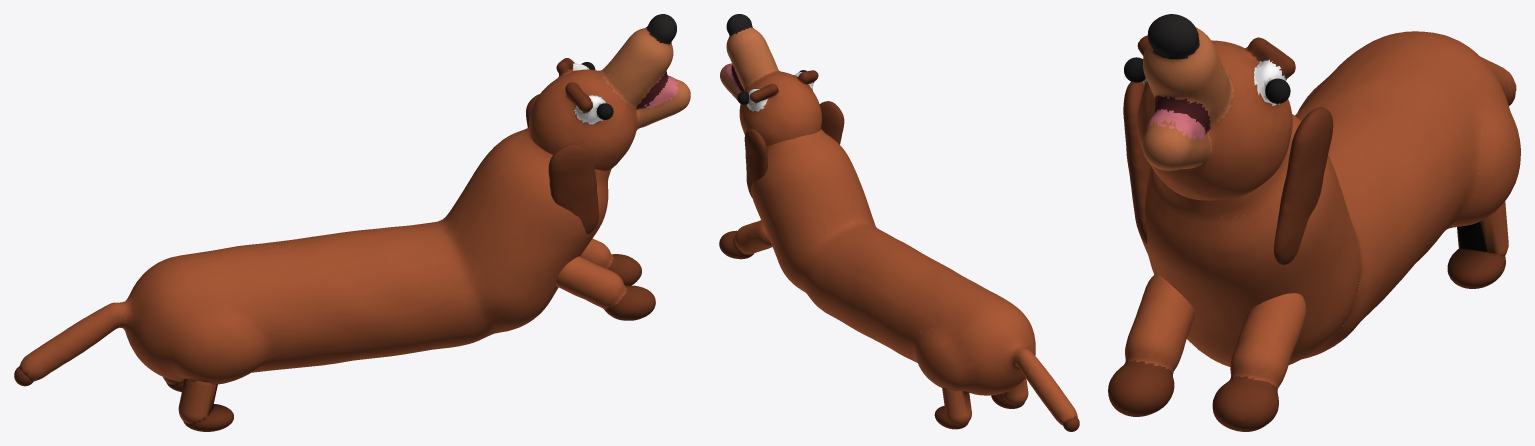
The model's file is jag-ar-orolig.glb.
3 renders of one model, left to right at view 1: azimuth 30°, elevation 25°; view 2: azimuth 150°, elevation 25°; view 3: azimuth 270°, elevation 25°, orthographic. The views are drawn at different scales.
Visible parts, largest first — view 1: salsicha__r0, cabeca__r0, patas__r0, orelhas__r0, salsicha__r4, salsicha__r5; view 2: salsicha__r0, cabeca__r0, orelhas__r0, patas__r0, salsicha__r2, salsicha__r4; view 3: salsicha__r0, cabeca__r0, patas__r0, orelhas__r0, salsicha__r3, salsicha__r2, cabeca__r2, cabeca__r1.
Boxes of the visible parts, box(x1,y1,x2,y2) form: salsicha__r0: box(19, 127, 611, 384); cabeca__r0: box(529, 14, 690, 170); patas__r0: box(556, 238, 655, 320); orelhas__r0: box(526, 94, 599, 233); salsicha__r4: box(178, 379, 217, 423); salsicha__r5: box(183, 404, 233, 431); salsicha__r0: box(751, 129, 1077, 425); cabeca__r0: box(720, 14, 821, 146); orelhas__r0: box(744, 101, 844, 197); patas__r0: box(719, 220, 772, 259); salsicha__r2: box(942, 388, 971, 425); salsicha__r4: box(1002, 378, 1028, 404); salsicha__r0: box(1141, 31, 1520, 366); cabeca__r0: box(1136, 14, 1295, 200); patas__r0: box(1108, 273, 1306, 431); orelhas__r0: box(1123, 81, 1333, 264); salsicha__r3: box(1447, 248, 1505, 288); salsicha__r2: box(1457, 201, 1508, 255); cabeca__r2: box(1265, 78, 1290, 103); cabeca__r1: box(1124, 57, 1145, 82).
Bounding box in the file's own units: 1.93 × 1.17 × 0.8148.
